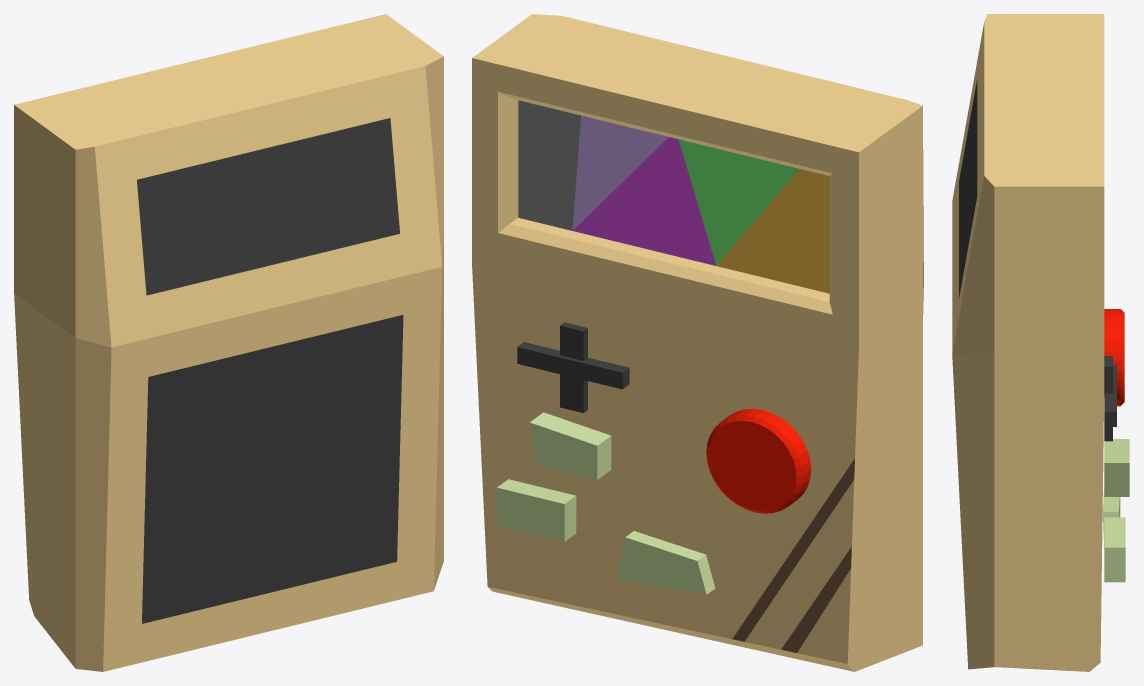
The model's file is GameBoy.fbx.
3 renders of one model, left to right at view 1: azimuth 30°, elevation 25°; view 2: azimuth 150°, elevation 25°; view 3: azimuth 270°, elevation 25°, orthographic. The views are drawn at different scales.
Parts seen in each view (by area): view 1: Cube.001; view 2: Cube.001; view 3: Cube.001.
Part boxes in pixels (bbox=[...]): Cube.001: bbox=[14, 14, 443, 671]; Cube.001: bbox=[472, 14, 923, 671]; Cube.001: bbox=[952, 14, 1129, 671].
Bounding box in the file's own units: 300 × 400 × 130.
